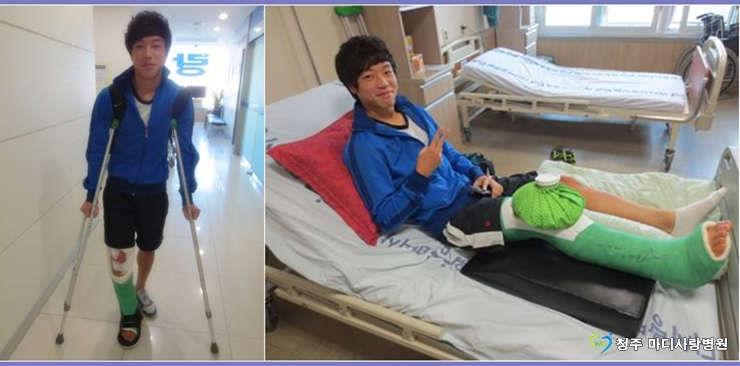crutches: (55, 10, 219, 355)
